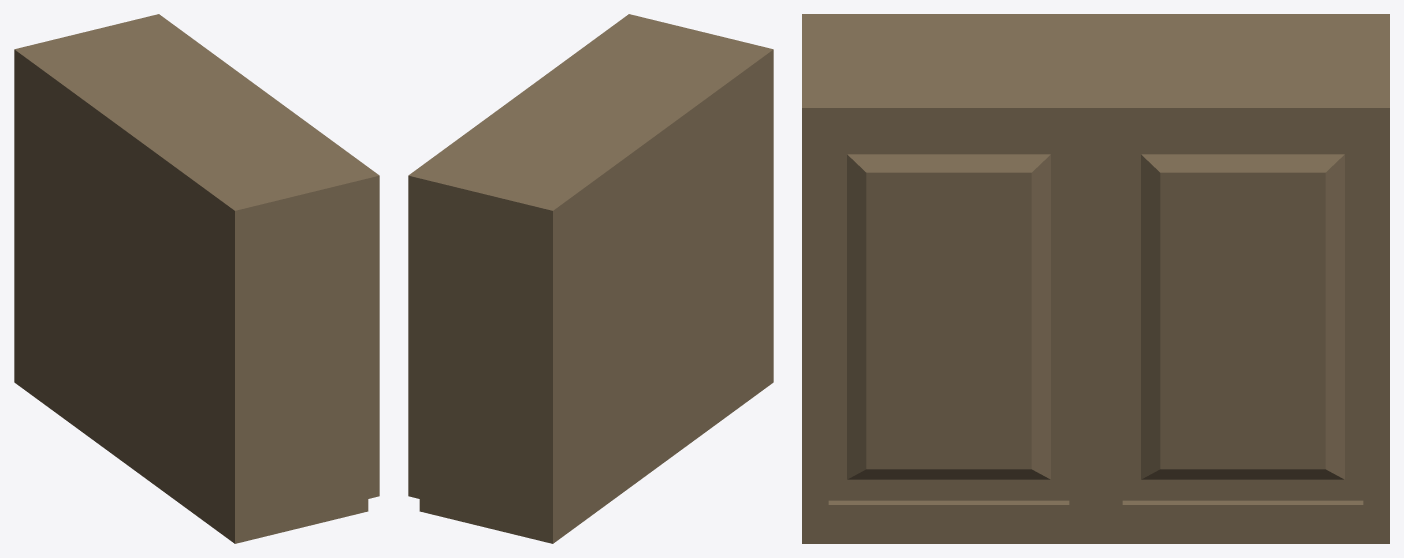
File: msh_highCabinet.fbx
The picture shows the model from 3 angles, left to right: view 1: azimuth 30°, elevation 25°; view 2: azimuth 150°, elevation 25°; view 3: azimuth 270°, elevation 25°; orthographic projection. The views are drawn at different scales.
Parts seen in each view (by area): view 1: GRP_highCabinet_01_msh_rightDoor; view 2: GRP_highCabinet_01_msh_rightDoor; view 3: GRP_highCabinet_01_msh_rightDoor.
Boxes of the visible parts, x1,y1,x2,y2 form: GRP_highCabinet_01_msh_rightDoor: (14,14,379,543); GRP_highCabinet_01_msh_rightDoor: (408,14,773,543); GRP_highCabinet_01_msh_rightDoor: (802,14,1389,543).
Bounding box in the file's own units: 53.03 × 117 × 140.
